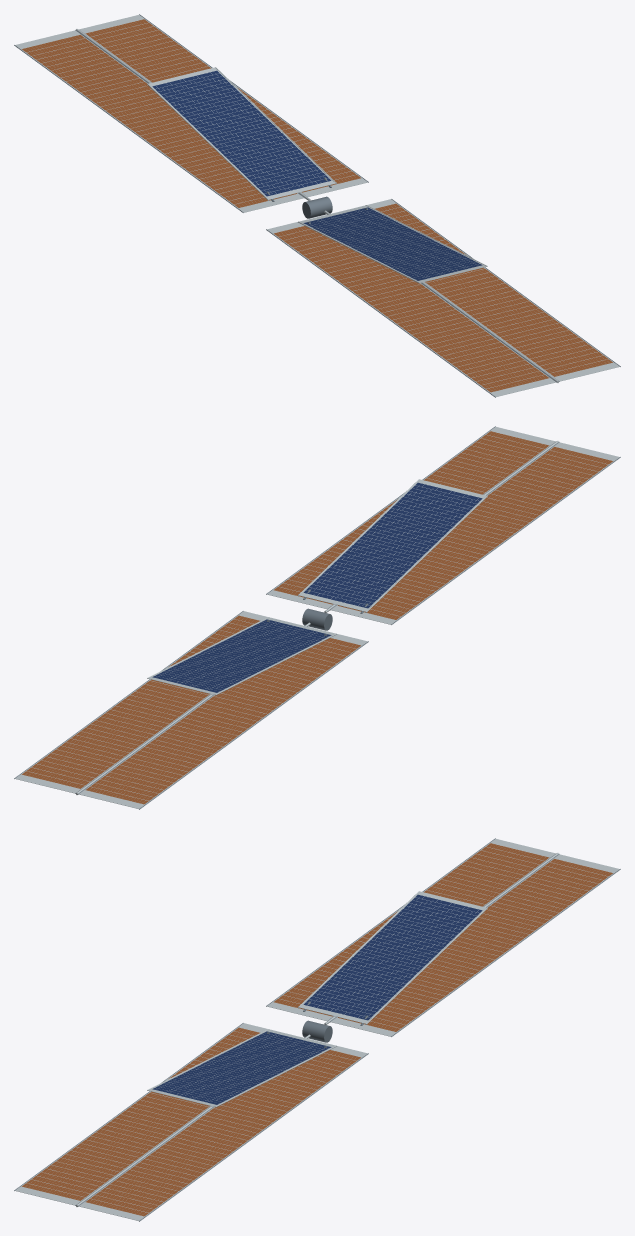
Rendered from iss_arrays.s4_alpha_joint.glb.
3 views of the same model, one above another, from view 1: azimuth 30°, elevation 25°; view 2: azimuth 150°, elevation 25°; view 3: azimuth 330°, elevation 25° (orthographic).
Parts seen in each view (by area): view 1: iss_arrays.s4_alpha_joint.wing_forward.blanket_l.cells.mesh_ (×2), iss_arrays.s4_alpha_joint.wing_forward.blanket_r.cells.mesh_ (×2), iss_arrays.s4_alpha_joint.wing_aft.blanket_r.cells.mesh_Copp, iss_arrays.s4_alpha_joint.wing_aft.irosa.cells.mesh_Indigo_s, iss_arrays.s4_alpha_joint.wing_forward.irosa.cells.mesh_Indi, iss_arrays.s4_alpha_joint.wing_aft.blanket_l.cells.mesh_Copp, iss_arrays.s4_alpha_joint.wing_aft.blanket_r.cells.mesh_Sati, iss_arrays.s4_alpha_joint.wing_aft.irosa.cells.mesh_Satin_al, iss_arrays.s4_alpha_joint.wing_aft.blanket_l.cells.mesh_Sati, iss_arrays.s4_alpha_joint.wing_forward.irosa.cells.mesh_Sati; view 2: iss_arrays.s4_alpha_joint.wing_forward.blanket_l.cells.mesh_ (×2), iss_arrays.s4_alpha_joint.wing_aft.blanket_r.cells.mesh_Copp, iss_arrays.s4_alpha_joint.wing_forward.irosa.cells.mesh_Indi, iss_arrays.s4_alpha_joint.wing_aft.blanket_l.cells.mesh_Copp, iss_arrays.s4_alpha_joint.wing_forward.blanket_r.cells.mesh_ (×2), iss_arrays.s4_alpha_joint.wing_aft.irosa.cells.mesh_Indigo_s, iss_arrays.s4_alpha_joint.wing_aft.blanket_r.cells.mesh_Sati, iss_arrays.s4_alpha_joint.wing_forward.irosa.cells.mesh_Sati, iss_arrays.s4_alpha_joint.wing_aft.blanket_l.cells.mesh_Sati, iss_arrays.s4_alpha_joint.wing_aft.irosa.cells.mesh_Satin_al; view 3: iss_arrays.s4_alpha_joint.wing_forward.blanket_r.cells.mesh_ (×2), iss_arrays.s4_alpha_joint.wing_forward.blanket_l.cells.mesh_ (×2), iss_arrays.s4_alpha_joint.wing_aft.blanket_l.cells.mesh_Copp, iss_arrays.s4_alpha_joint.wing_aft.irosa.cells.mesh_Indigo_s, iss_arrays.s4_alpha_joint.wing_forward.irosa.cells.mesh_Indi, iss_arrays.s4_alpha_joint.wing_aft.blanket_r.cells.mesh_Copp, iss_arrays.s4_alpha_joint.wing_aft.blanket_l.cells.mesh_Sati, iss_arrays.s4_alpha_joint.wing_aft.irosa.cells.mesh_Satin_al, iss_arrays.s4_alpha_joint.wing_aft.blanket_r.cells.mesh_Sati, iss_arrays.s4_alpha_joint.wing_forward.irosa.cells.mesh_Sati.
Boxes of the visible parts, left/top/right/bottom form: iss_arrays.s4_alpha_joint.wing_forward.blanket_l.cells.mesh_ (×2): left=266, top=214, right=556, bottom=396; iss_arrays.s4_alpha_joint.wing_forward.blanket_r.cells.mesh_ (×2): left=331, top=199, right=619, bottom=381; iss_arrays.s4_alpha_joint.wing_aft.blanket_r.cells.mesh_Copp: left=22, top=35, right=297, bottom=207; iss_arrays.s4_alpha_joint.wing_aft.irosa.cells.mesh_Indigo_s: left=152, top=70, right=331, bottom=196; iss_arrays.s4_alpha_joint.wing_forward.irosa.cells.mesh_Indi: left=303, top=207, right=482, bottom=280; iss_arrays.s4_alpha_joint.wing_aft.blanket_l.cells.mesh_Copp: left=85, top=19, right=360, bottom=192; iss_arrays.s4_alpha_joint.wing_aft.blanket_r.cells.mesh_Sati: left=14, top=30, right=304, bottom=212; iss_arrays.s4_alpha_joint.wing_aft.irosa.cells.mesh_Satin_al: left=148, top=67, right=335, bottom=199; iss_arrays.s4_alpha_joint.wing_aft.blanket_l.cells.mesh_Sati: left=79, top=15, right=368, bottom=196; iss_arrays.s4_alpha_joint.wing_forward.irosa.cells.mesh_Sati: left=299, top=205, right=487, bottom=283; iss_arrays.s4_alpha_joint.wing_forward.blanket_l.cells.mesh_ (×2): left=330, top=442, right=620, bottom=624; iss_arrays.s4_alpha_joint.wing_aft.blanket_r.cells.mesh_Copp: left=86, top=638, right=360, bottom=804; iss_arrays.s4_alpha_joint.wing_forward.irosa.cells.mesh_Indi: left=303, top=482, right=482, bottom=608; iss_arrays.s4_alpha_joint.wing_aft.blanket_l.cells.mesh_Copp: left=22, top=615, right=259, bottom=788; iss_arrays.s4_alpha_joint.wing_forward.blanket_r.cells.mesh_ (×2): left=266, top=427, right=555, bottom=608; iss_arrays.s4_alpha_joint.wing_aft.irosa.cells.mesh_Indigo_s: left=152, top=619, right=331, bottom=692; iss_arrays.s4_alpha_joint.wing_aft.blanket_r.cells.mesh_Sati: left=78, top=626, right=368, bottom=808; iss_arrays.s4_alpha_joint.wing_forward.irosa.cells.mesh_Sati: left=299, top=479, right=486, bottom=611; iss_arrays.s4_alpha_joint.wing_aft.blanket_l.cells.mesh_Sati: left=15, top=611, right=303, bottom=793; iss_arrays.s4_alpha_joint.wing_aft.irosa.cells.mesh_Satin_al: left=147, top=617, right=335, bottom=695; iss_arrays.s4_alpha_joint.wing_forward.blanket_r.cells.mesh_ (×2): left=78, top=1038, right=368, bottom=1220; iss_arrays.s4_alpha_joint.wing_forward.blanket_l.cells.mesh_ (×2): left=15, top=1023, right=303, bottom=1205; iss_arrays.s4_alpha_joint.wing_aft.blanket_l.cells.mesh_Copp: left=337, top=859, right=612, bottom=1031; iss_arrays.s4_alpha_joint.wing_aft.irosa.cells.mesh_Indigo_s: left=303, top=894, right=482, bottom=1020; iss_arrays.s4_alpha_joint.wing_forward.irosa.cells.mesh_Indi: left=152, top=1031, right=331, bottom=1104; iss_arrays.s4_alpha_joint.wing_aft.blanket_r.cells.mesh_Copp: left=274, top=843, right=549, bottom=1016; iss_arrays.s4_alpha_joint.wing_aft.blanket_l.cells.mesh_Sati: left=330, top=854, right=620, bottom=1036; iss_arrays.s4_alpha_joint.wing_aft.irosa.cells.mesh_Satin_al: left=299, top=891, right=486, bottom=1023; iss_arrays.s4_alpha_joint.wing_aft.blanket_r.cells.mesh_Sati: left=266, top=839, right=555, bottom=1020; iss_arrays.s4_alpha_joint.wing_forward.irosa.cells.mesh_Sati: left=147, top=1029, right=335, bottom=1107.
Size of the model in its own units: 10.98 by 3.4 by 72.66.
